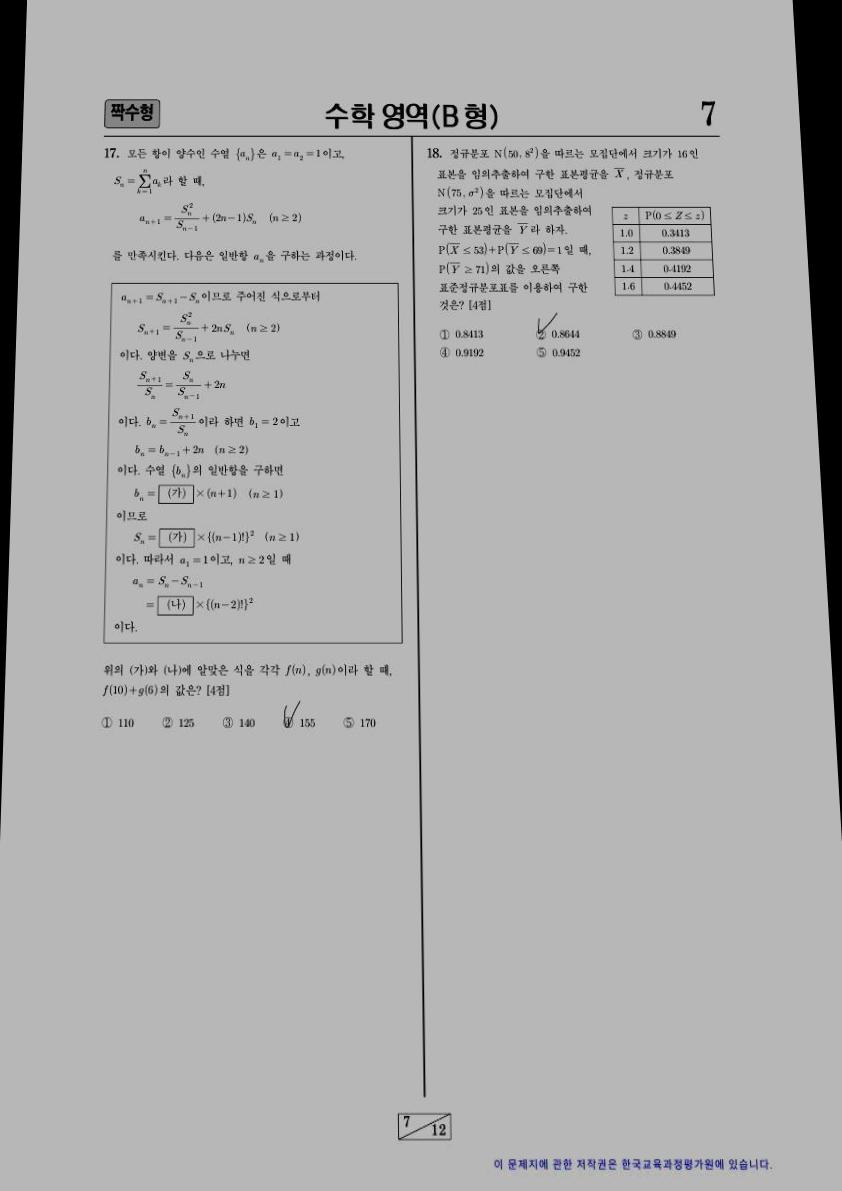question: (82, 137, 411, 751), (417, 139, 725, 376)
